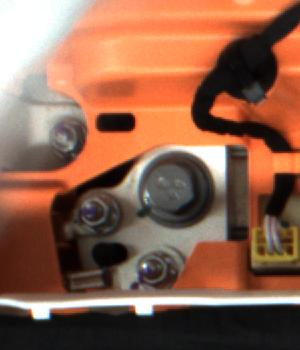nut_b: (133, 149, 210, 223)
